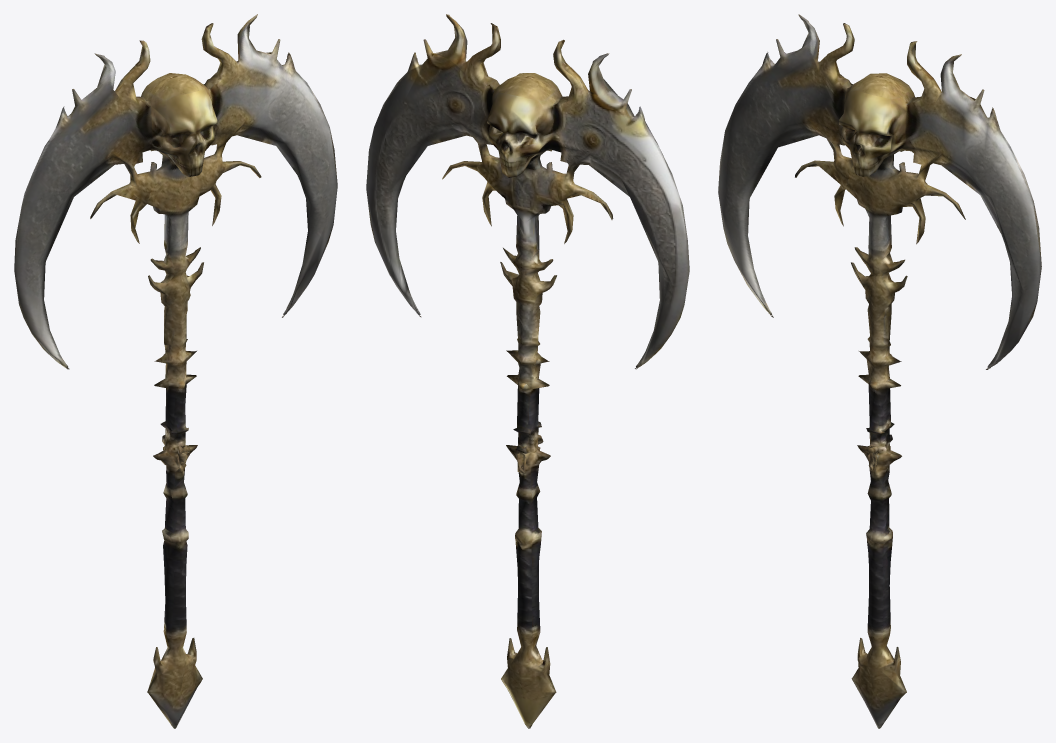
The model's file is 1687_scythe.glb.
3 views of the same model, side by side, from view 1: azimuth 30°, elevation 25°; view 2: azimuth 150°, elevation 25°; view 3: azimuth 330°, elevation 25° (orthographic).
Parts seen in each view (by area): view 1: Model; view 2: Model; view 3: Model.
Part boxes in pixels (x1=…): Model: x1=14, y1=14, x2=337, y2=728; Model: x1=366, y1=14, x2=689, y2=728; Model: x1=718, y1=14, x2=1041, y2=728.
Size of the model in its own units: 0.4854 by 1 by 0.1182.
Materials: 1 (1 with a texture image).
